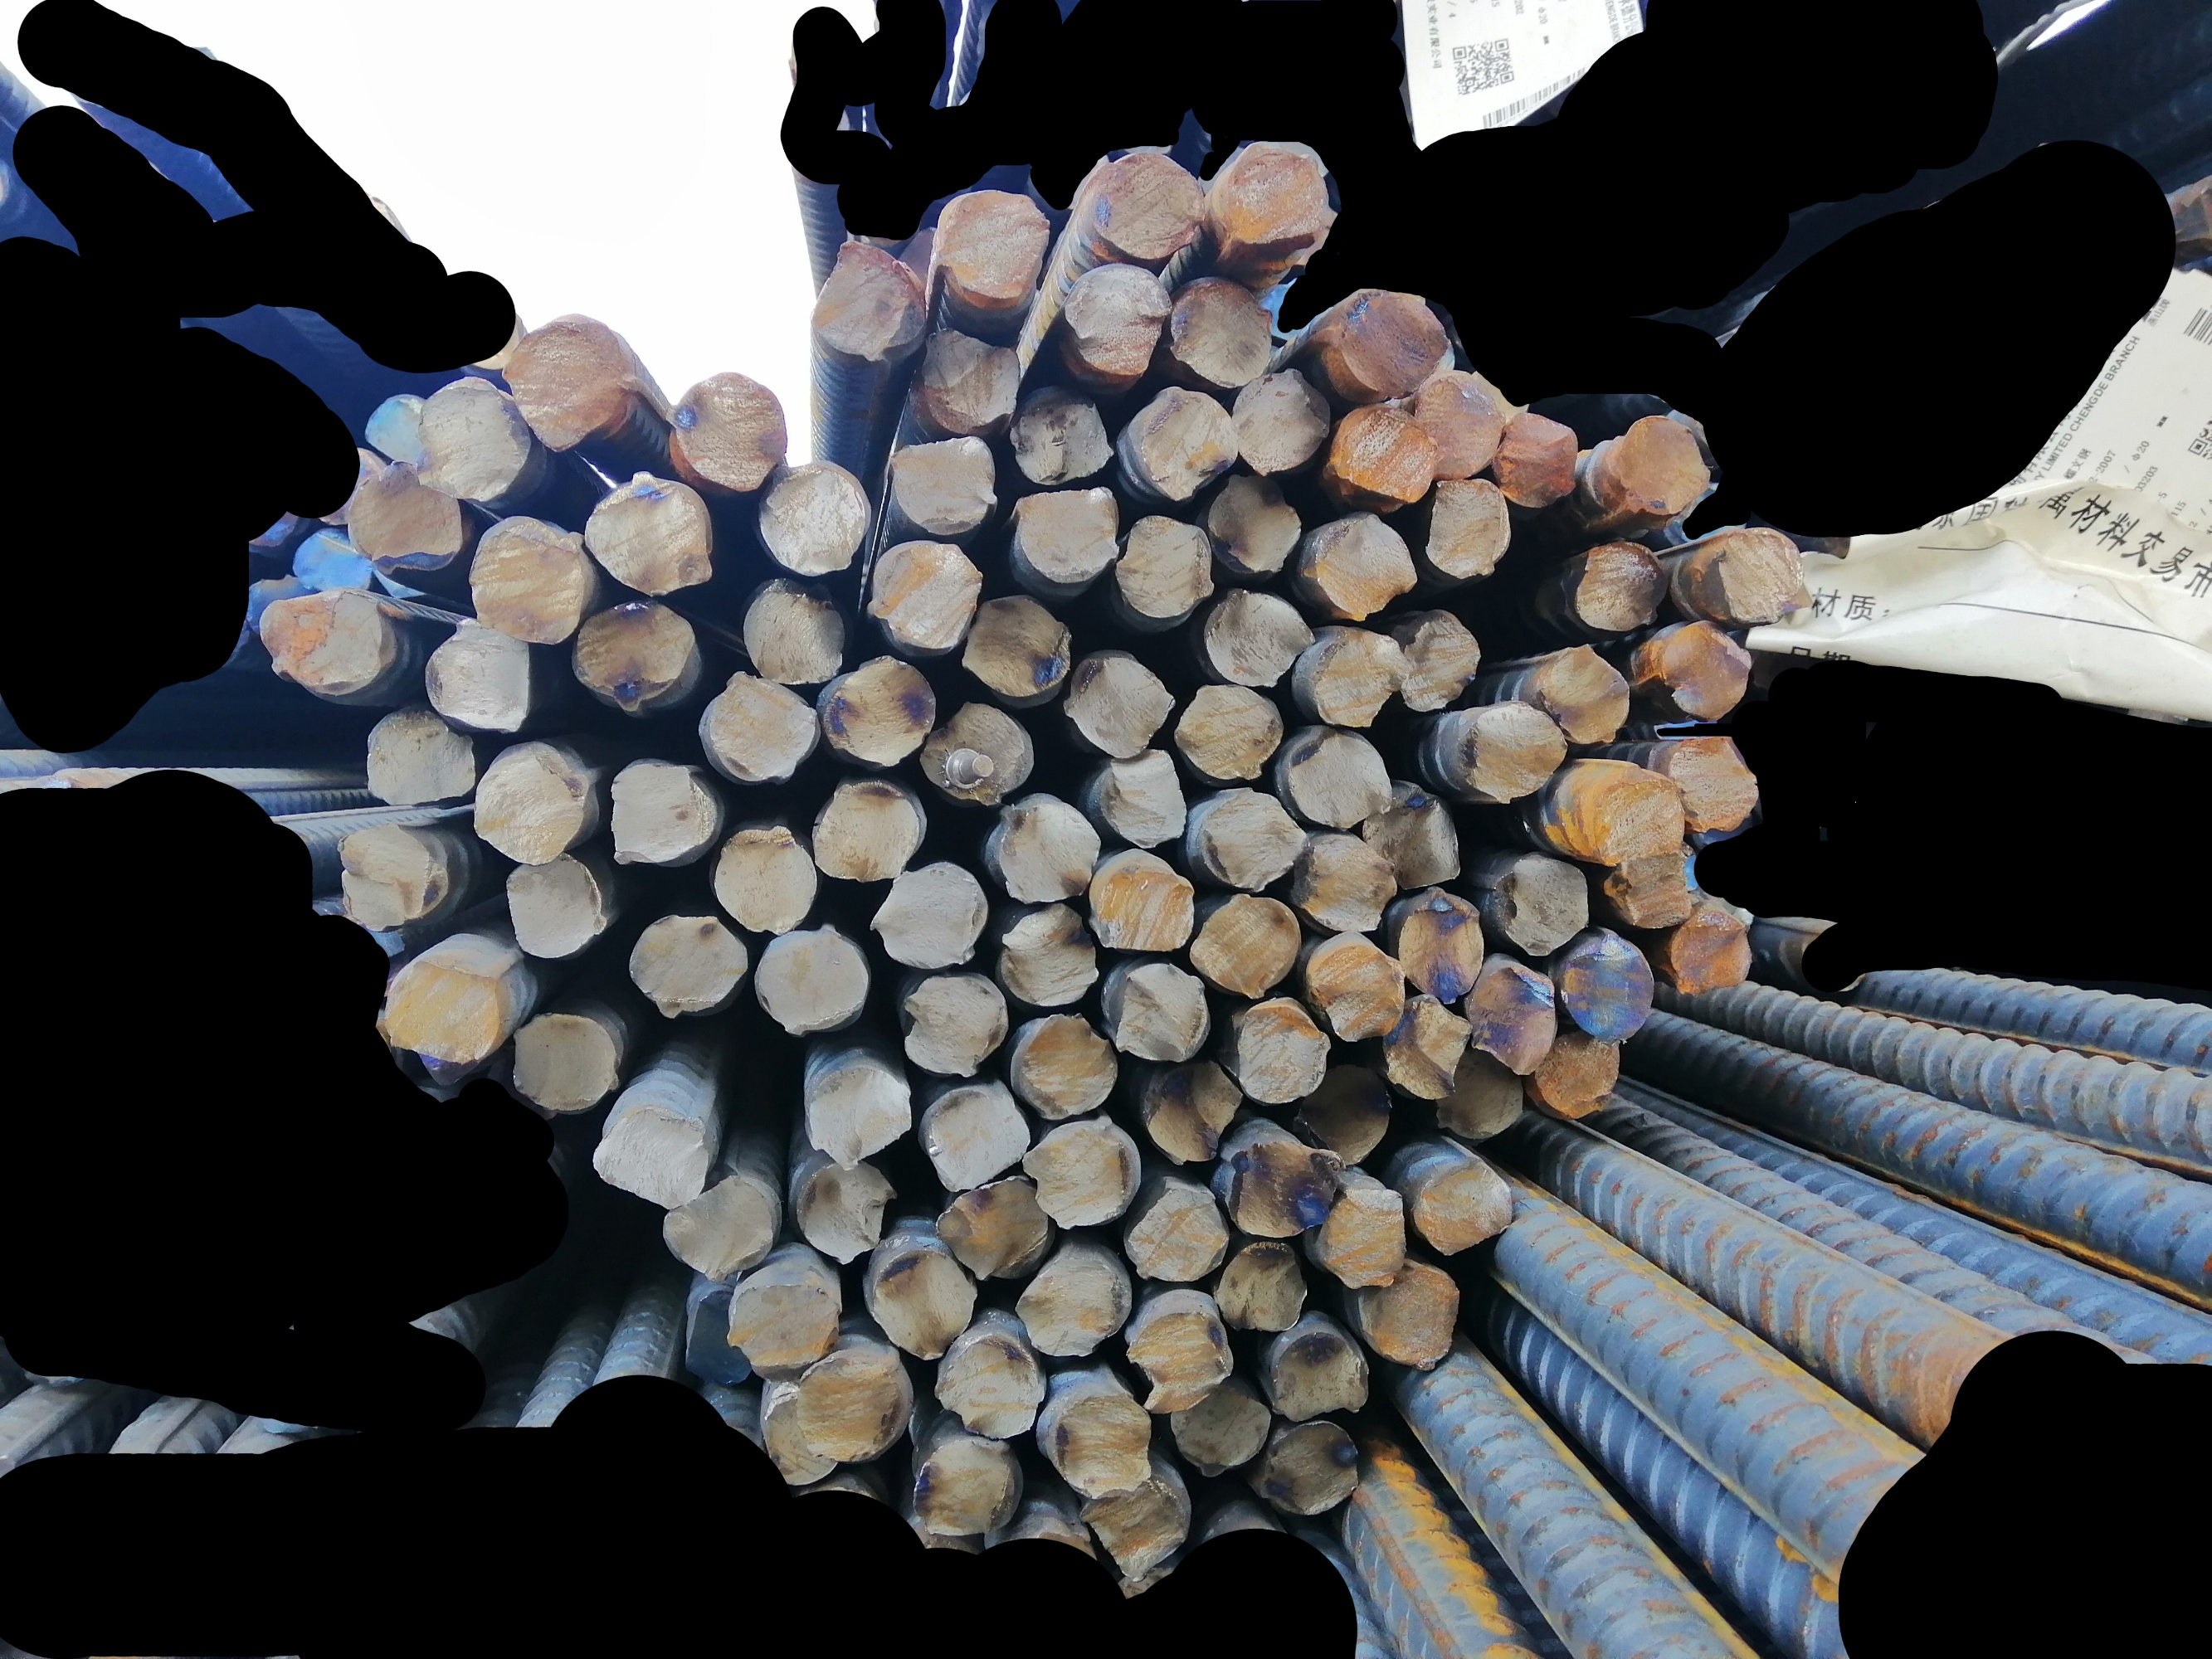rebar: (500, 307, 629, 455), (465, 505, 596, 648), (671, 362, 791, 500), (587, 471, 715, 598), (467, 737, 593, 864), (326, 803, 453, 929), (811, 234, 929, 368), (415, 369, 532, 504), (570, 591, 704, 708), (933, 185, 1056, 310), (258, 587, 392, 699), (865, 856, 992, 972), (1011, 1243, 1130, 1363), (793, 1344, 910, 1466), (587, 1096, 711, 1211), (420, 608, 533, 734), (1123, 380, 1238, 502), (757, 457, 870, 579), (739, 572, 852, 692), (1060, 258, 1173, 378), (357, 701, 479, 812), (385, 953, 502, 1068), (704, 819, 819, 936), (920, 694, 1037, 809), (1211, 132, 1327, 249), (628, 908, 748, 1019), (1224, 1134, 1347, 1243), (751, 925, 870, 1037), (1088, 146, 1208, 256), (1027, 1115, 1142, 1229), (912, 1425, 1025, 1539), (1124, 1297, 1234, 1413), (823, 657, 940, 767), (870, 1244, 976, 1364), (349, 458, 462, 570), (802, 1060, 915, 1171), (605, 756, 716, 870), (1206, 582, 1320, 694), (868, 544, 983, 653), (1313, 507, 1422, 622), (1175, 678, 1290, 788), (727, 1272, 844, 1380), (938, 1175, 1055, 1283), (1168, 272, 1274, 390), (506, 842, 610, 962), (1062, 647, 1170, 762), (1011, 1009, 1117, 1126), (1278, 725, 1394, 831), (704, 671, 814, 782), (1123, 1175, 1231, 1288), (1340, 288, 1450, 397), (899, 969, 1008, 1080), (1140, 1054, 1248, 1166), (1055, 1389, 1159, 1504), (1192, 788, 1309, 890), (1114, 507, 1217, 622), (1231, 361, 1333, 476), (1014, 481, 1123, 589), (507, 1009, 617, 1115), (915, 326, 1021, 436), (1002, 380, 1114, 484), (662, 1180, 779, 1279), (1189, 892, 1297, 999), (1356, 1263, 1462, 1371), (920, 1087, 1030, 1192), (1295, 1054, 1396, 1168), (812, 777, 917, 885), (1081, 1476, 1191, 1579), (1089, 854, 1201, 955), (887, 434, 999, 535), (934, 1331, 1039, 1438), (1105, 960, 1211, 1065), (997, 798, 1102, 904), (1363, 789, 1469, 894), (1654, 619, 1757, 727), (1468, 699, 1569, 807), (1313, 932, 1410, 1044), (1381, 986, 1473, 1103), (1002, 903, 1105, 1007), (1415, 362, 1506, 481), (967, 591, 1067, 699), (1340, 397, 1440, 505), (1421, 472, 1518, 582), (1462, 962, 1555, 1077), (795, 1162, 894, 1269), (1234, 1002, 1333, 1107), (1496, 854, 1593, 960), (1089, 746, 1191, 847), (1710, 523, 1808, 627), (1215, 1229, 1311, 1335), (1415, 1157, 1513, 1260), (1614, 413, 1708, 519), (1262, 1419, 1360, 1520), (1307, 627, 1401, 730), (1208, 469, 1300, 573), (1267, 1330, 1372, 1422), (1316, 1185, 1407, 1291), (1670, 730, 1761, 836), (1536, 645, 1633, 742), (1562, 943, 1656, 1044), (1173, 1385, 1276, 1478), (1496, 408, 1584, 514), (1572, 538, 1668, 636), (1534, 1023, 1628, 1122), (1304, 833, 1396, 934), (1400, 897, 1483, 1006), (1400, 608, 1483, 714), (1595, 770, 1689, 864), (1666, 899, 1754, 995), (760, 1387, 842, 1488), (1438, 1046, 1527, 1138), (689, 1279, 753, 1389), (1618, 845, 1698, 931), (291, 523, 375, 598), (363, 392, 431, 467)
